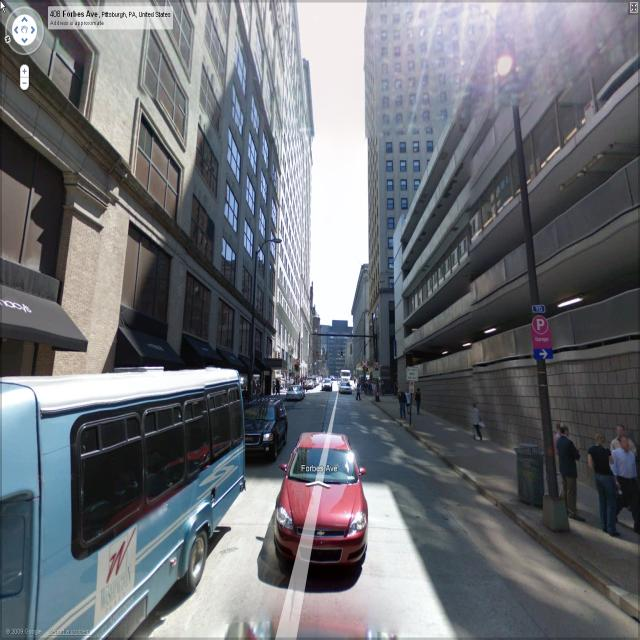b_1: (4, 10, 272, 389), (395, 17, 640, 410), (365, 1, 495, 376), (272, 67, 322, 386), (345, 269, 374, 374), (316, 314, 356, 388)
